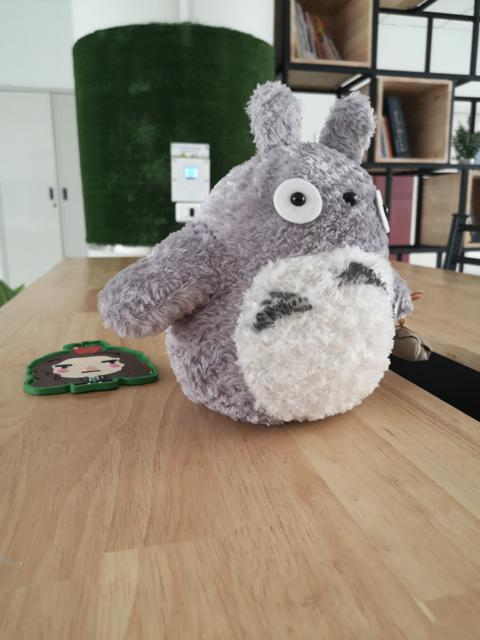totoro: (97, 75, 434, 440)
